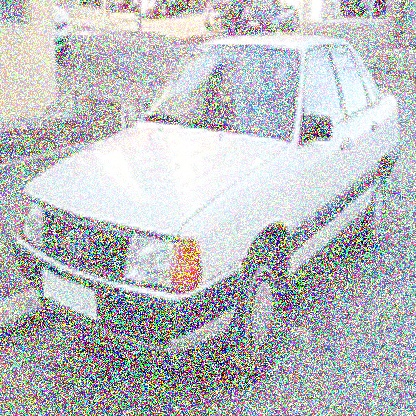Vehicle: (10, 13, 404, 387)
